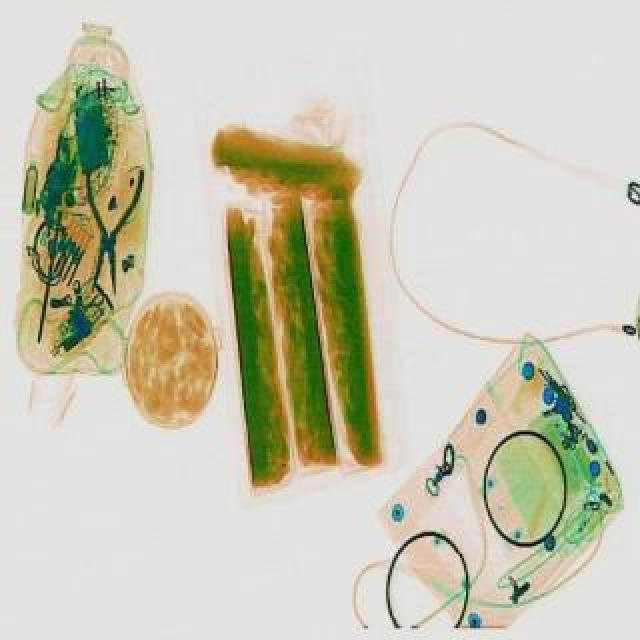wrench: (72, 162, 144, 294)
